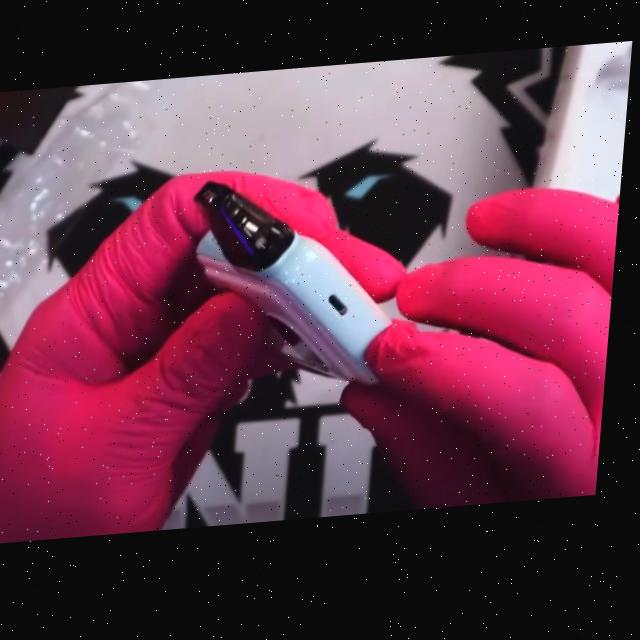vape: (183, 171, 410, 405)
